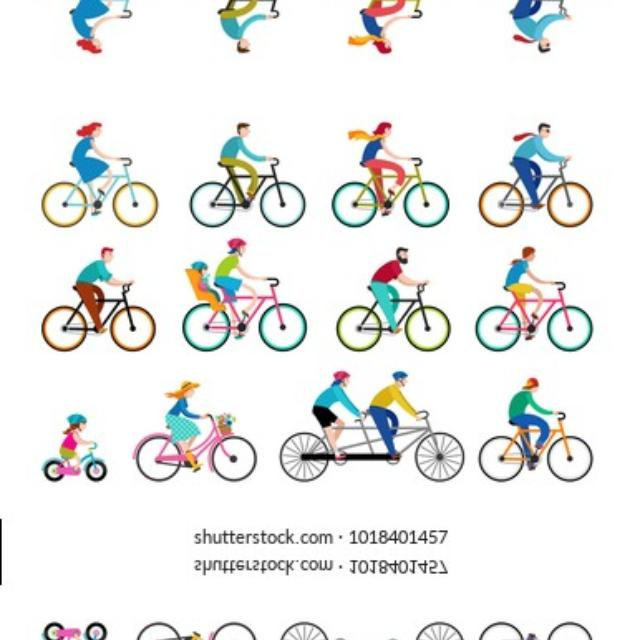obstacle: (181, 286, 313, 362), (476, 290, 614, 362), (137, 410, 263, 488), (44, 162, 172, 238), (326, 286, 460, 358), (323, 159, 455, 227), (472, 161, 600, 227), (186, 165, 314, 231), (482, 414, 596, 478), (137, 614, 263, 640), (323, 0, 455, 15), (481, 623, 596, 640), (472, 0, 600, 13), (43, 0, 172, 11), (186, 0, 313, 9)
